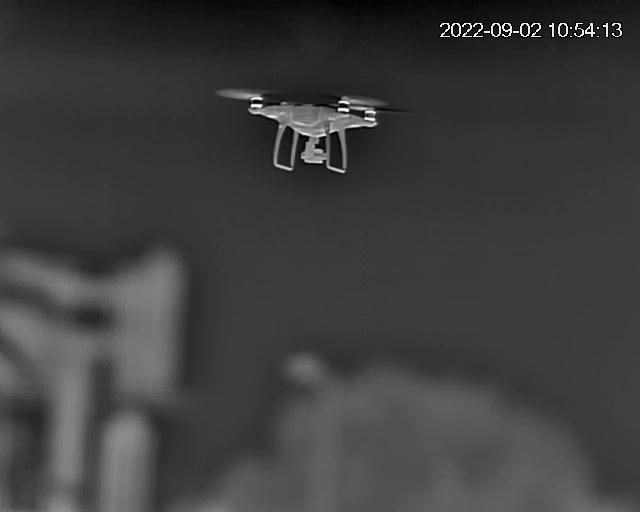DJI-Phantom: (216, 86, 406, 174)
